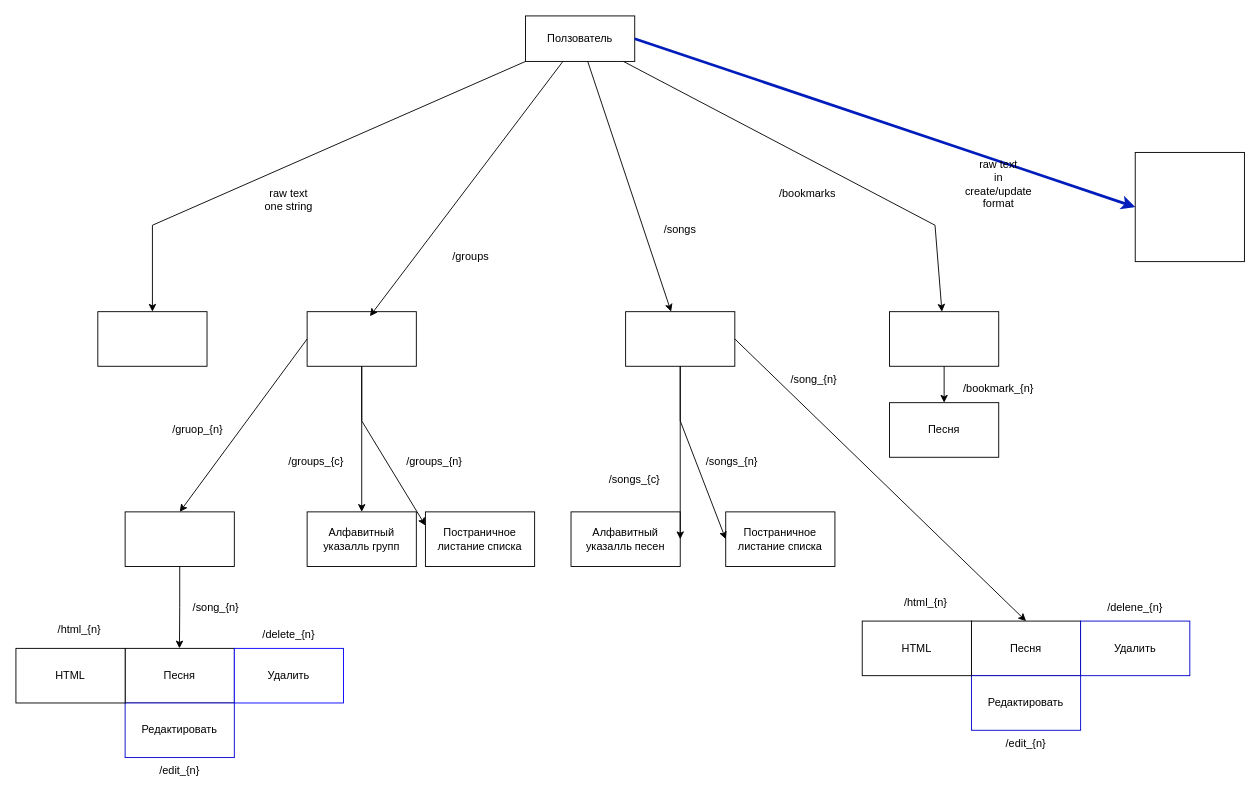
Image size: 1260x801. Some labels were removed from this diagram. The centre of each missing label's shape, as x and y in pixels:
"Группы" goes at point (361, 338).
"Добавление песни, или правка. Первая строка: group*name*flag" goes at point (1189, 207).
"Закладки" goes at point (944, 338).
"Песни" goes at point (680, 338).
"Список песен" goes at point (179, 538).
"Текстовый п оиск" goes at point (152, 338).
